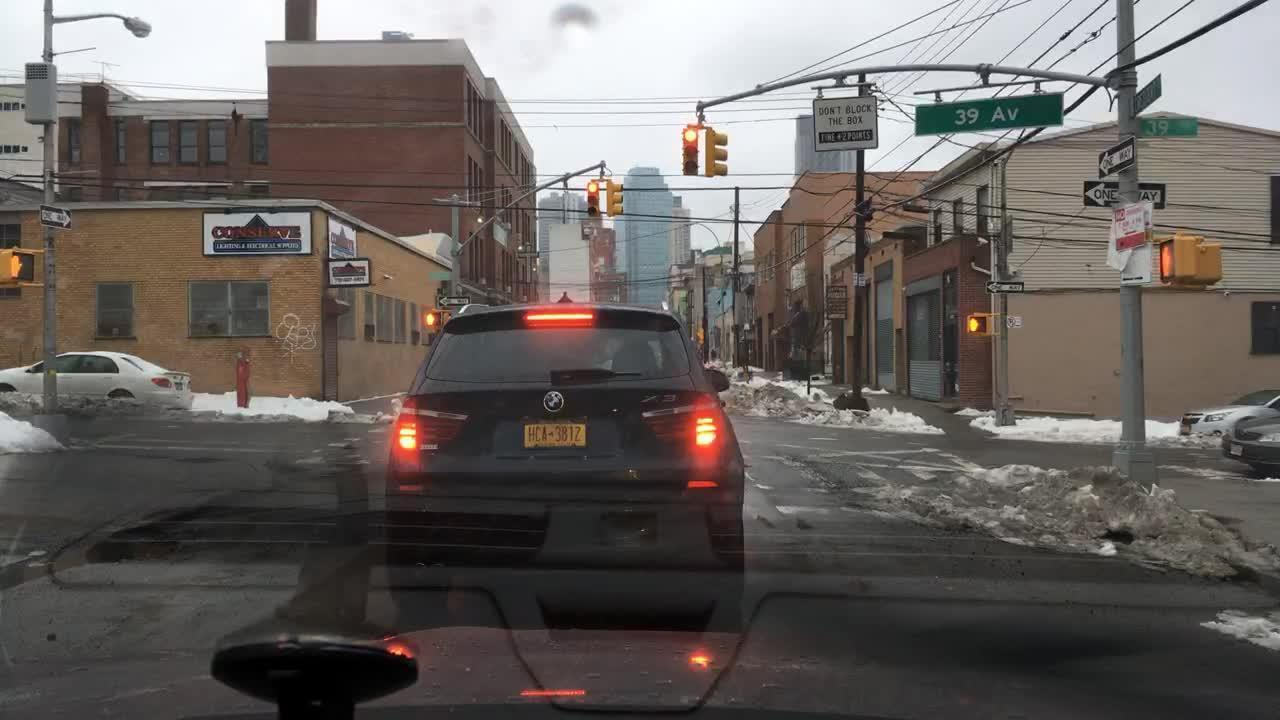bmw: (541, 388, 565, 416)
